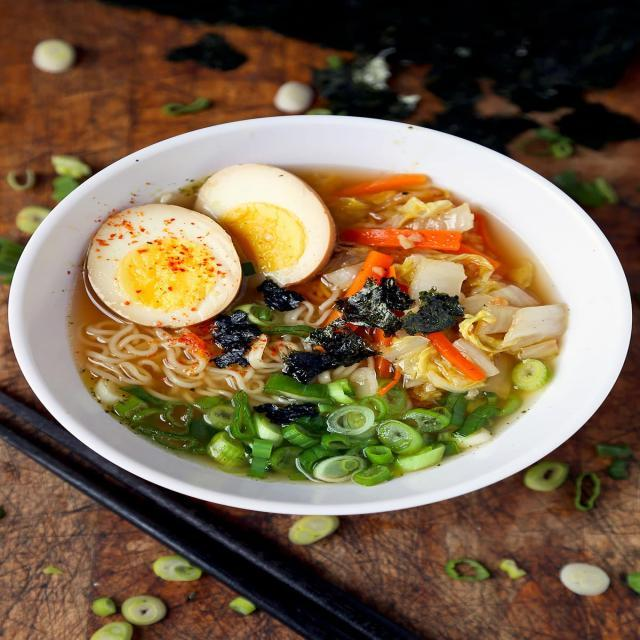cac loai rau cu: (86, 376, 543, 487), (338, 179, 569, 384), (254, 283, 402, 387)
mi misoramen: (63, 167, 576, 499)
soi mi miso: (66, 315, 318, 404)
trung: (78, 202, 251, 327), (190, 164, 342, 283)
